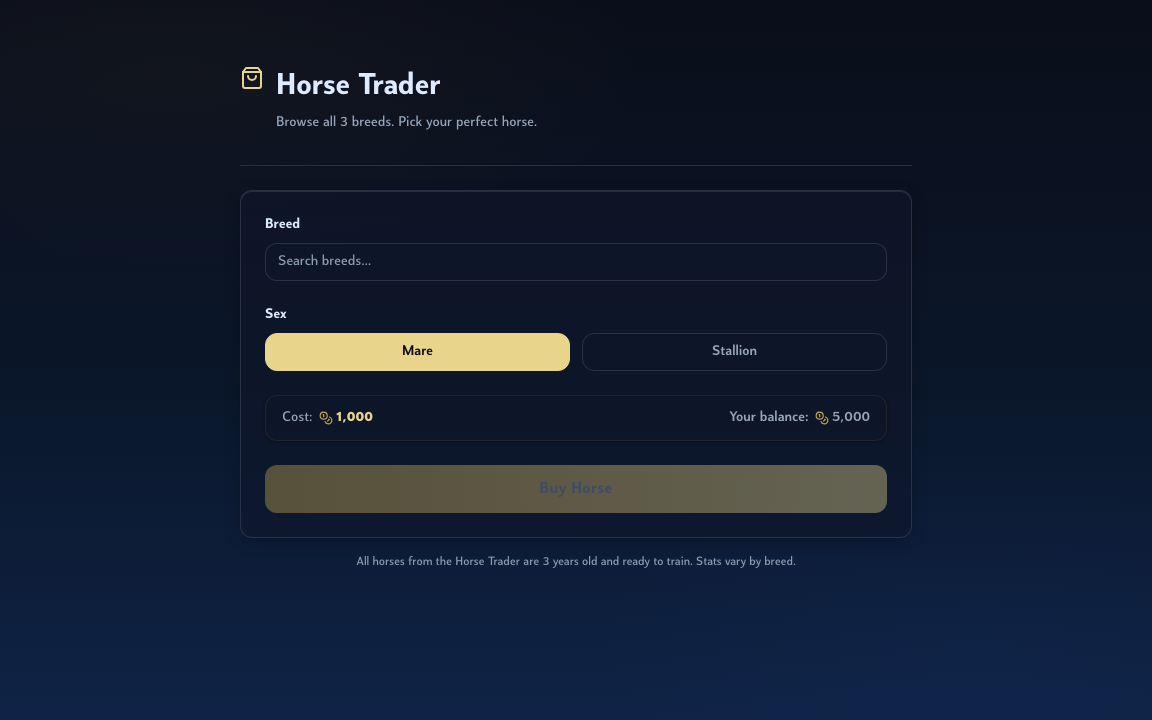
Test case: HorseTraderPage — error path › does not echo a 500 body message into the purchase error
The image size is (1152, 720).
Click the dropdown labelled "Breed".
click(576, 262)  # box [265,243,887,281]
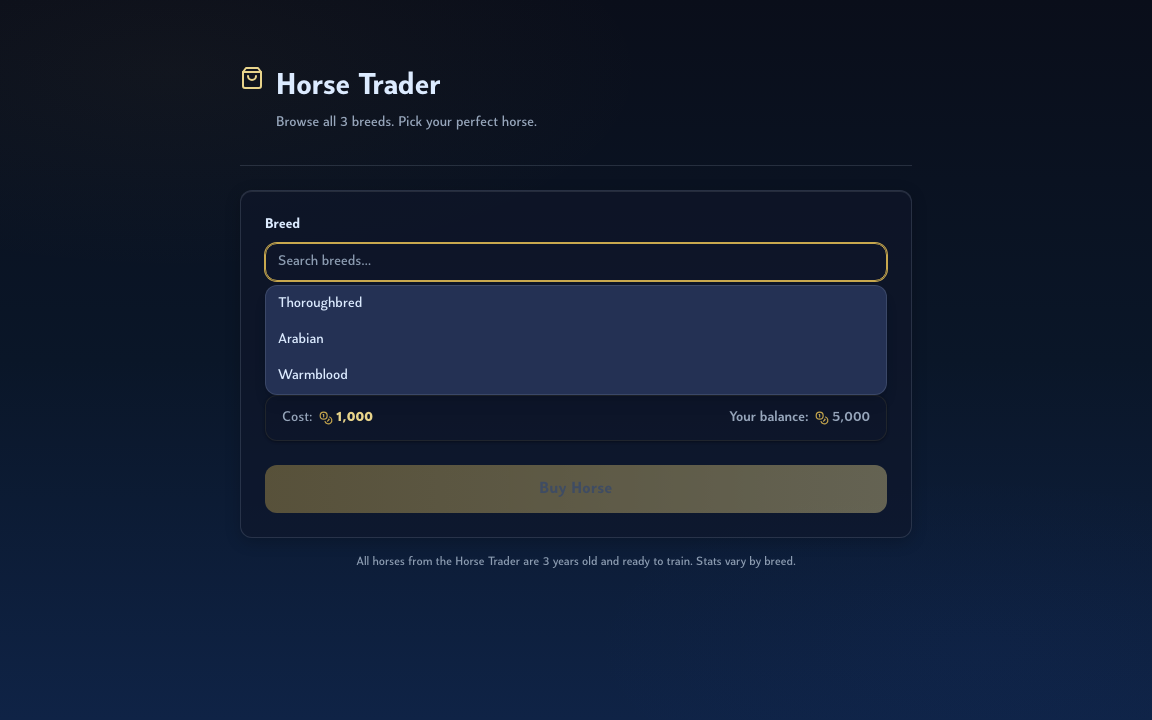
Click the option "Arabian".
click(301, 340)  # box [278,332,324,347]
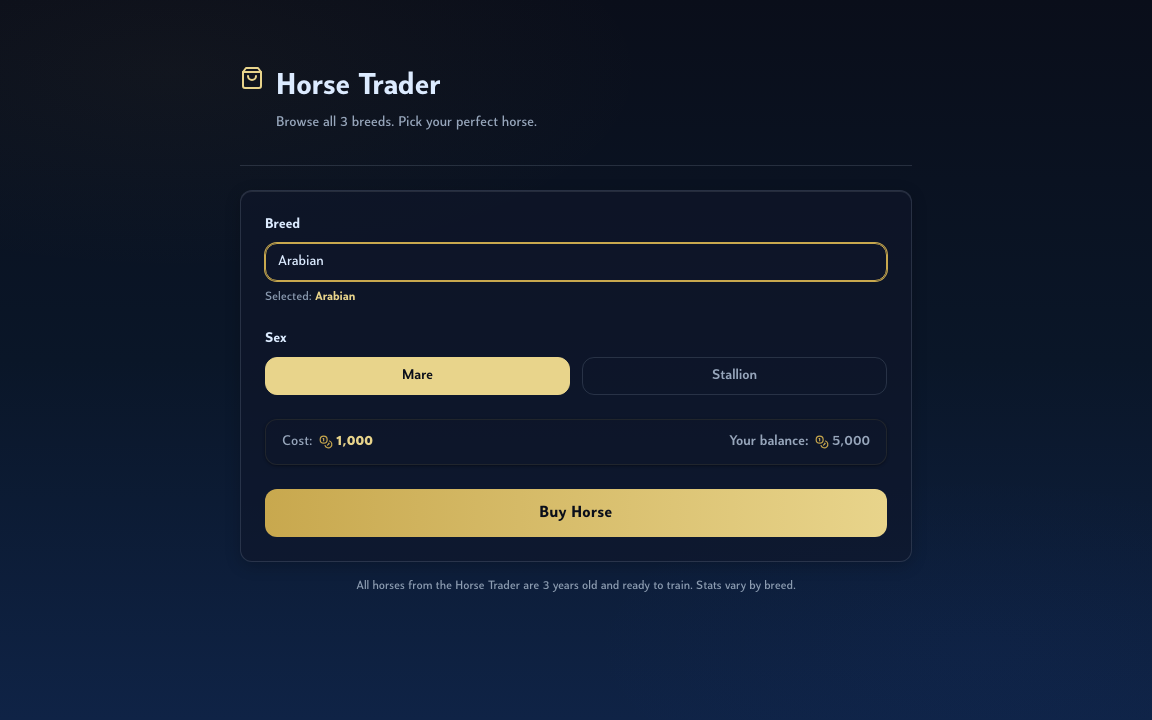
Now the button with test id "buy-horse-button" is enabled
Click the button with test id "buy-horse-button".
click(576, 513)  # box [265,489,887,537]
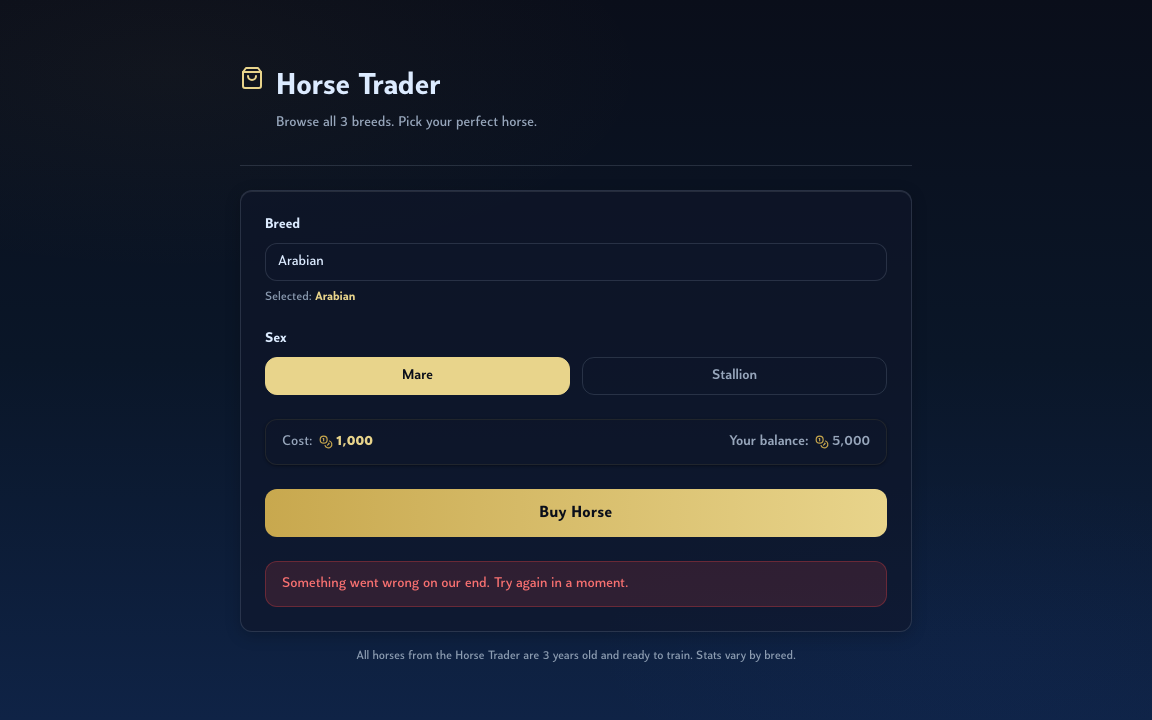
Expected: the text with test id "purchase-error" does not show "connection reset by", [265,561,887,607]
Now the text with test id "purchase-error" reads "Something went wrong on our end. Try again in a moment.", box [282,576,628,591]
